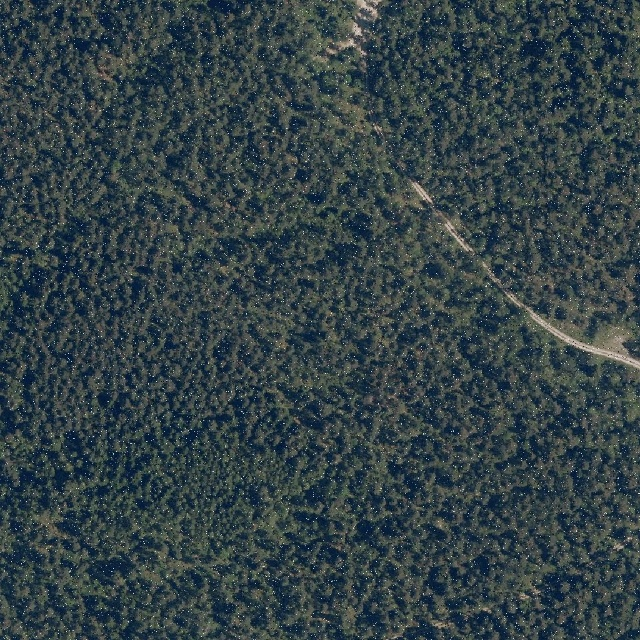vegetation: (0, 1, 639, 639), (372, 0, 638, 357)
